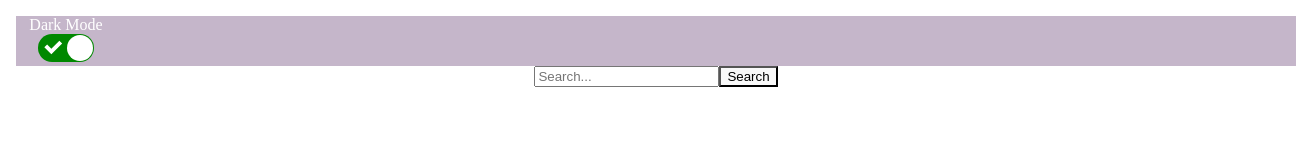
Test: Check search › Should display error message if search bar is empty
Click the button: (748, 76) [719,66,778,87]
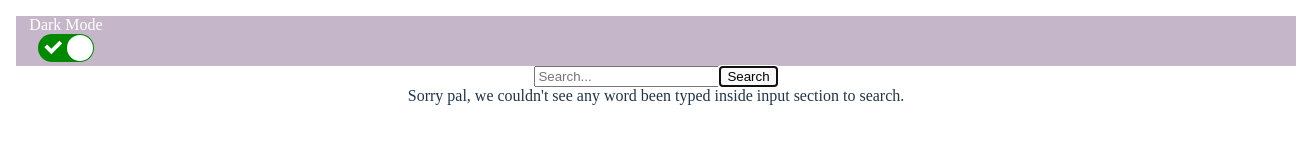
Expected: the text "Sorry pal, we couldn't see any word been typed inside input section to search." is shown, [408,87,904,104]
